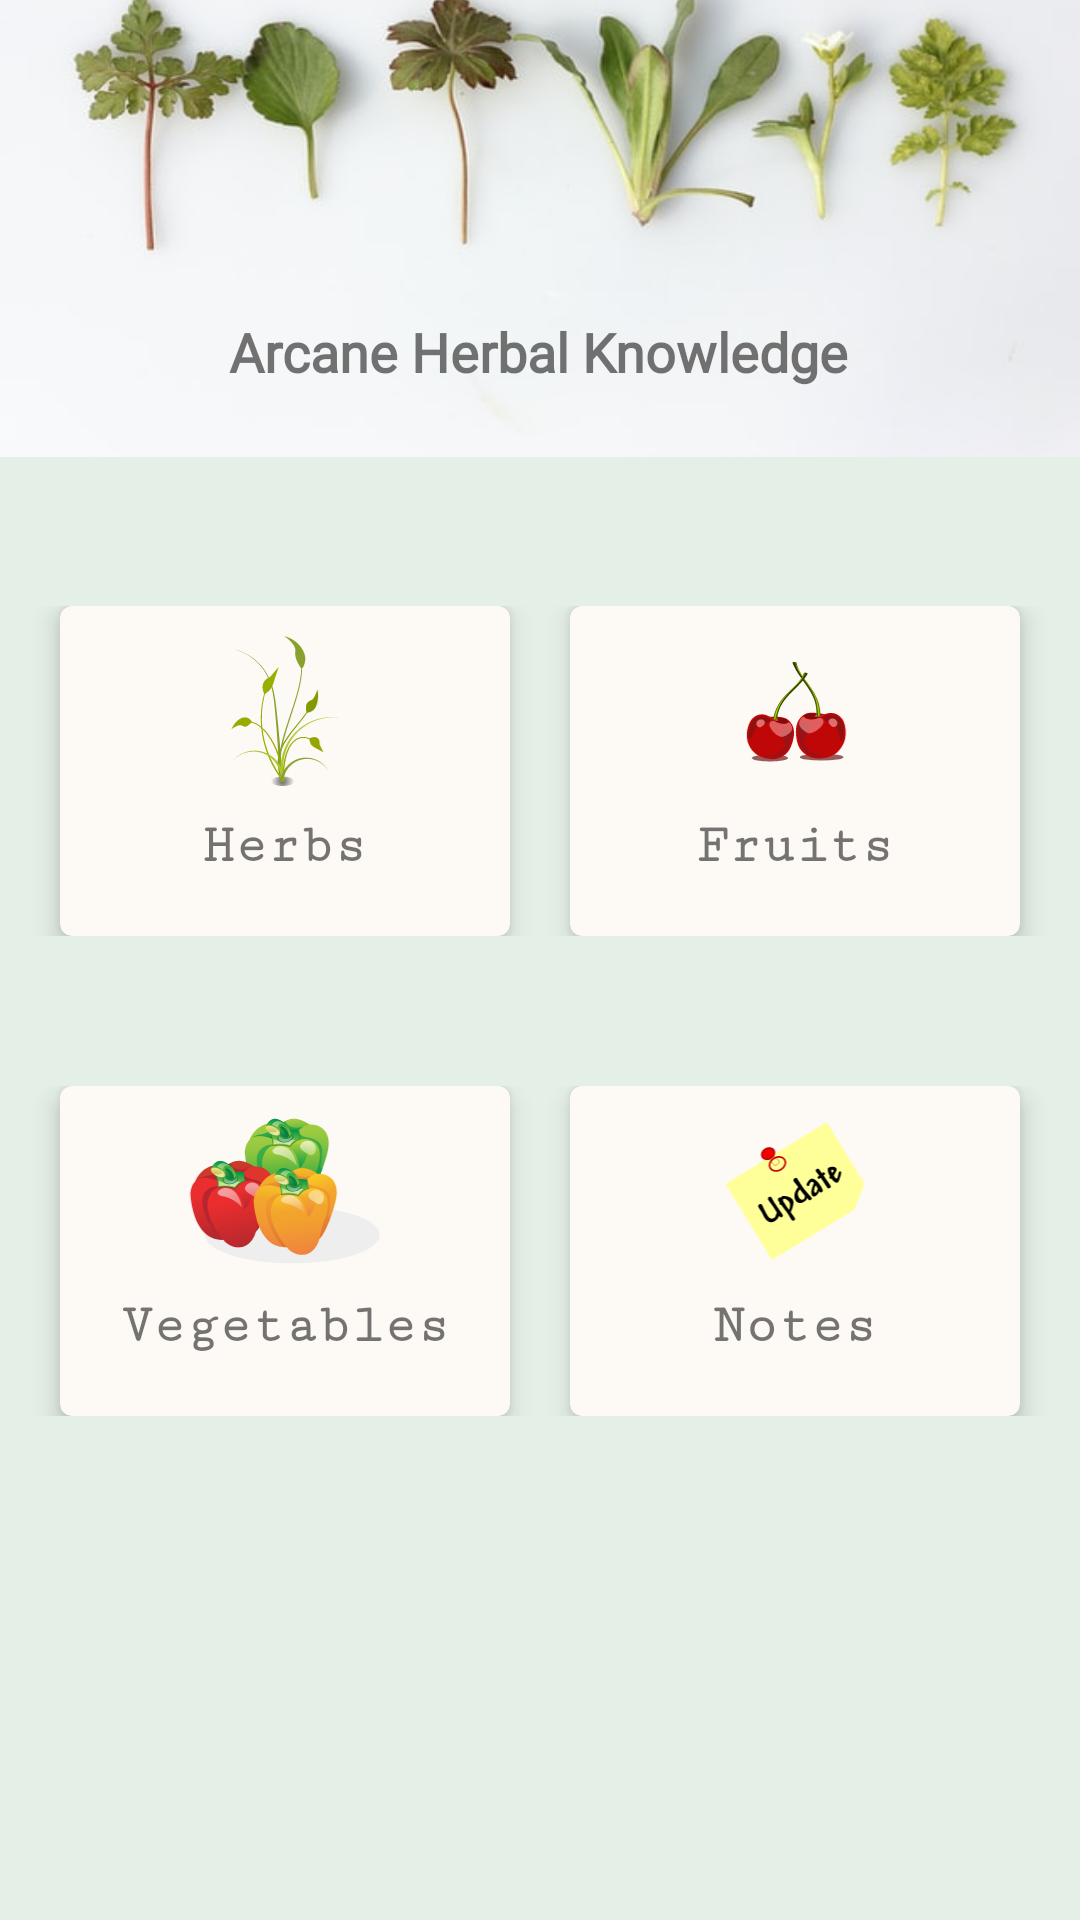

Screen size 1080px x 1920px. Icon name, then its center in pixels as (x=x, y=y):
Fruit type: (x=796, y=711)
